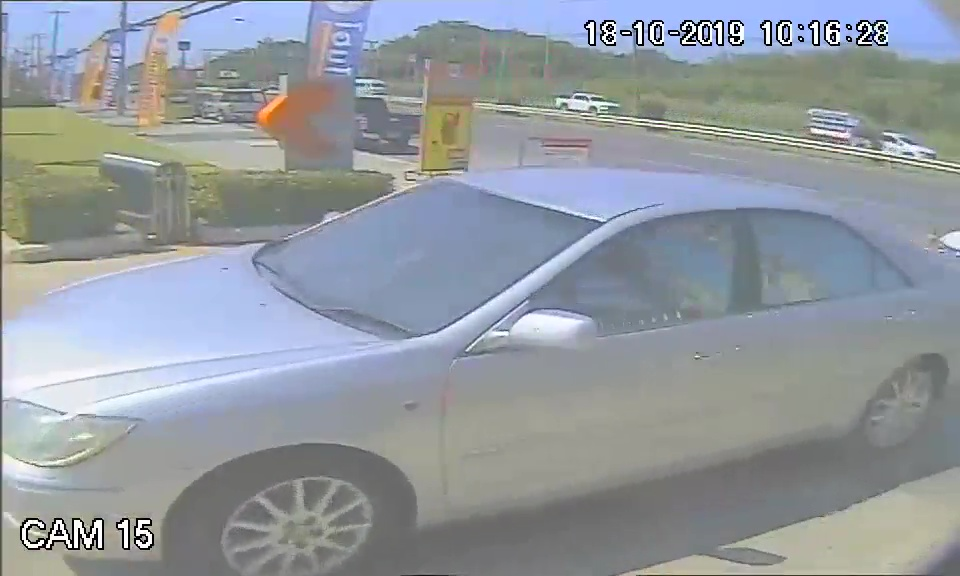sedan: (8, 169, 871, 573)
